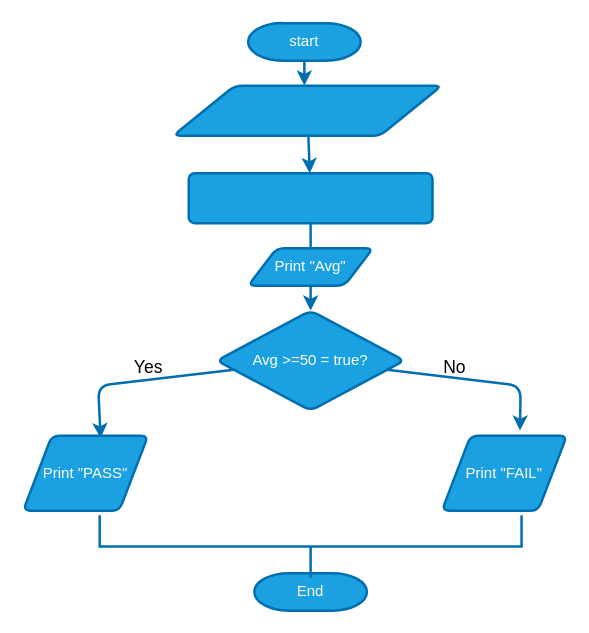
Some shapes in this 589 by 633 pixel diagram are drawn without their labels. The shapes that lost their labels are listed below. From the top down, each one's box as (x1, y1, x2, y2) in pixels, then its label:
(171, 84, 442, 136): Read Mark1, Mark2, Mark3
(187, 171, 433, 224): Avg=(Marke1+MArk2+Mark3)/3
